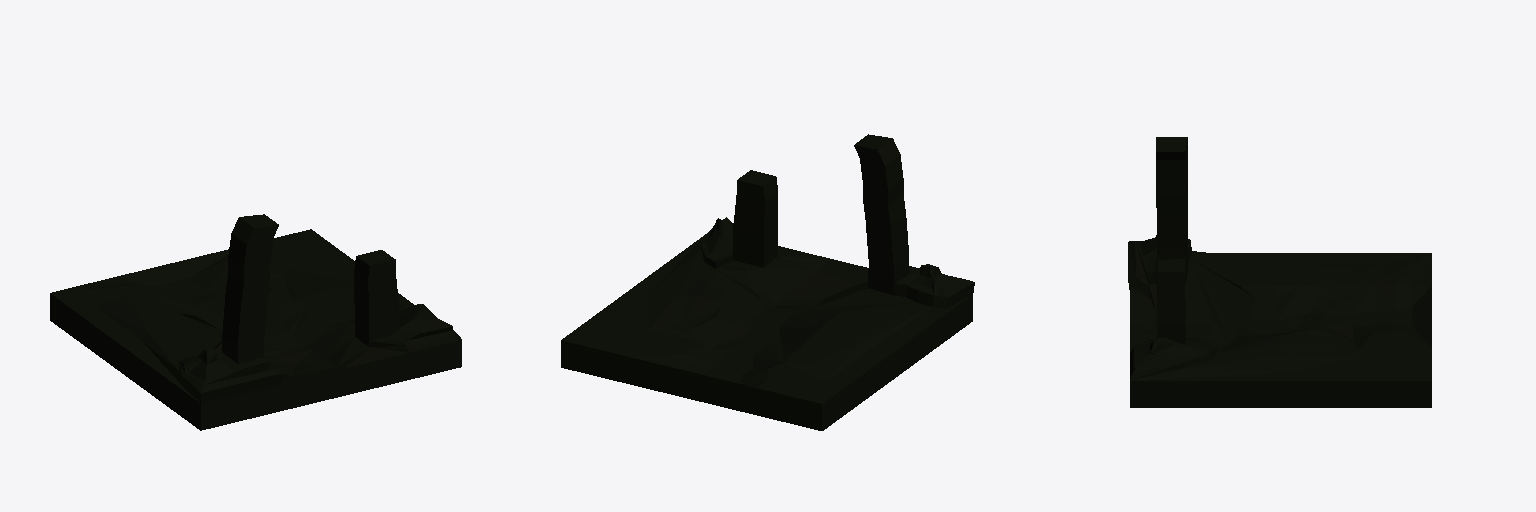
Rendered from MysticArch2.obj.
3 renders of one model, left to right at view 1: azimuth 30°, elevation 25°; view 2: azimuth 150°, elevation 25°; view 3: azimuth 270°, elevation 25°, orthographic.
Parts seen in each view (by area): view 1: Cube; view 2: Cube; view 3: Cube.
Part boxes in pixels (x1,y1,x2,y2): Cube: (50, 214, 461, 430); Cube: (561, 134, 974, 430); Cube: (1128, 137, 1431, 407).
Bounding box in the file's own units: 2.01 × 1.29 × 2.01.